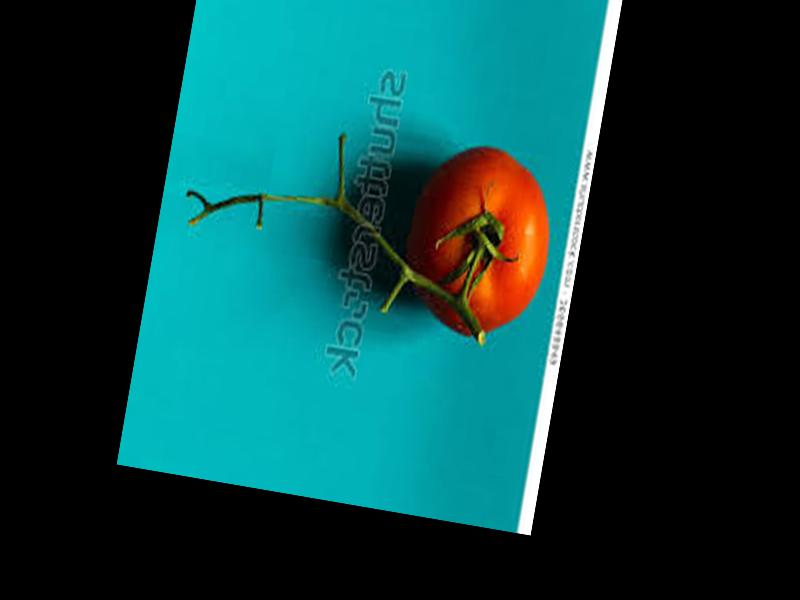Tomato: (396, 137, 561, 347)
